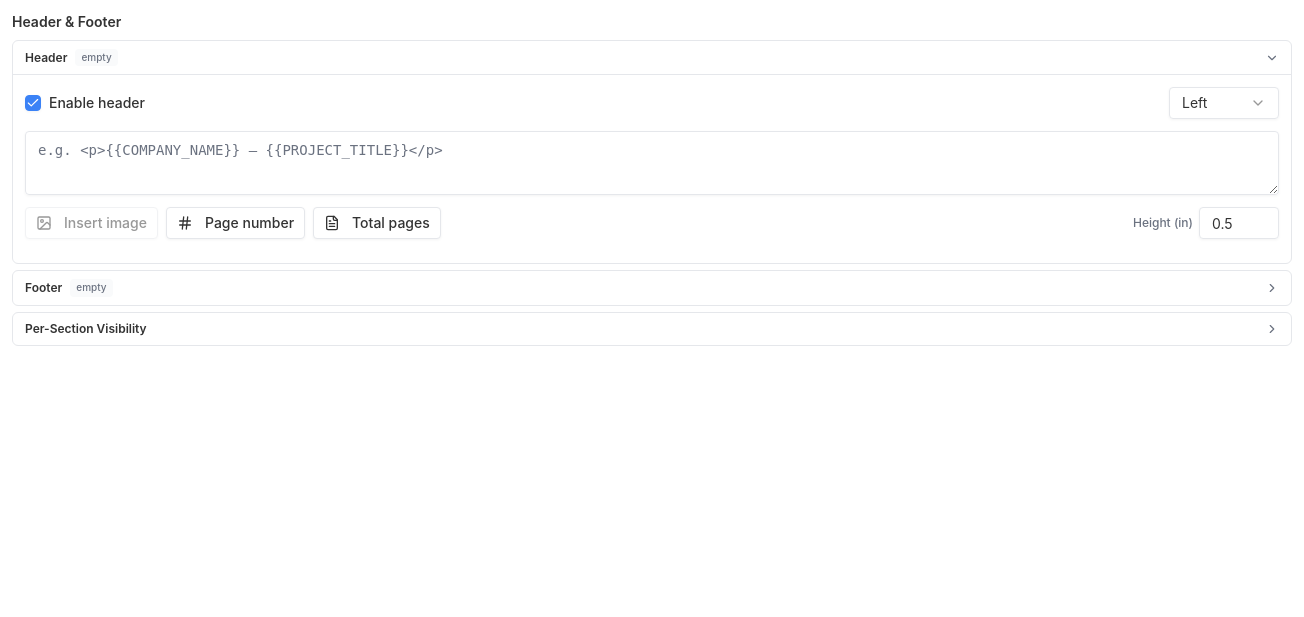
TemplateFurniturePanel — collapsible structure › summarises override count on the per-section group
In the text box named "Header content": (652, 163) left=25, top=131, right=1279, bottom=195, type "<p>ACME</p>"
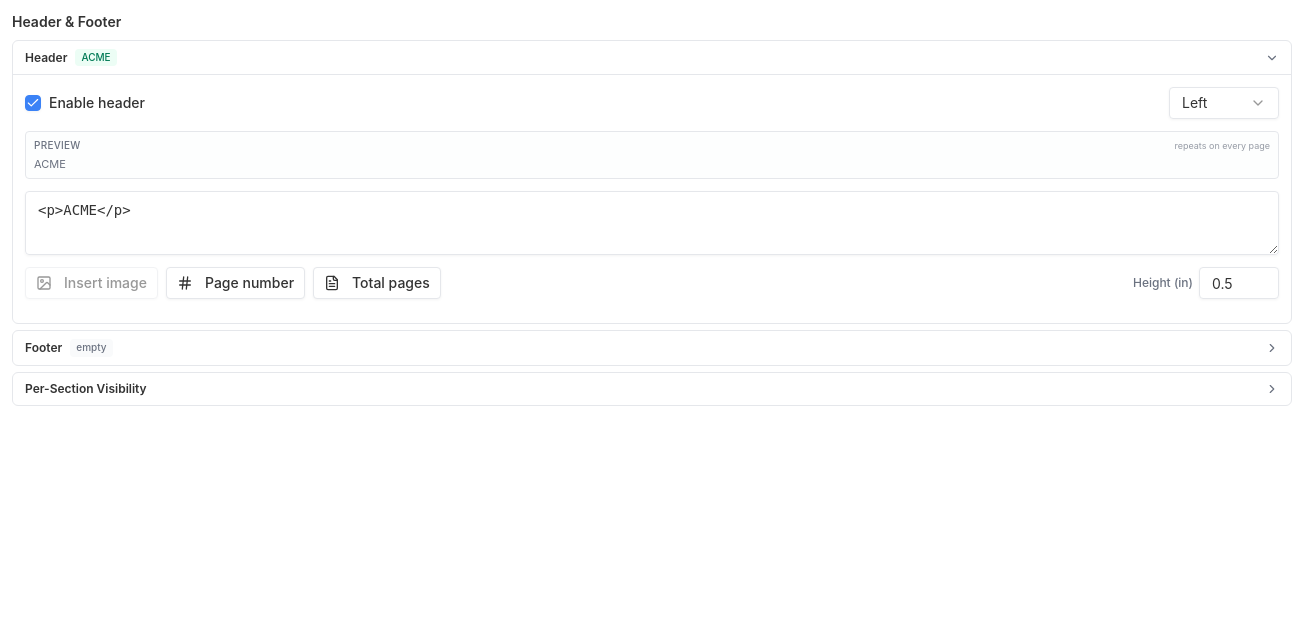
Click the button "Per-Section Visibility": (86, 388) left=13, top=373, right=1291, bottom=405
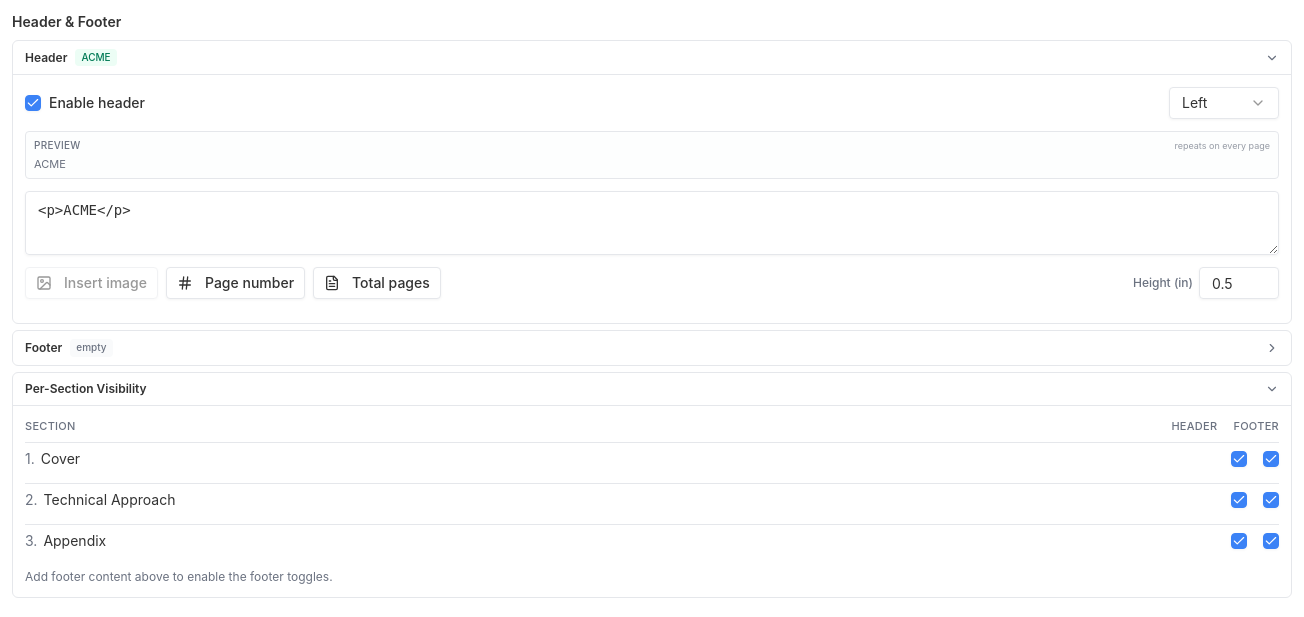
Click the checkbox named "Show header on section 1": (1239, 459) left=1231, top=451, right=1247, bottom=467
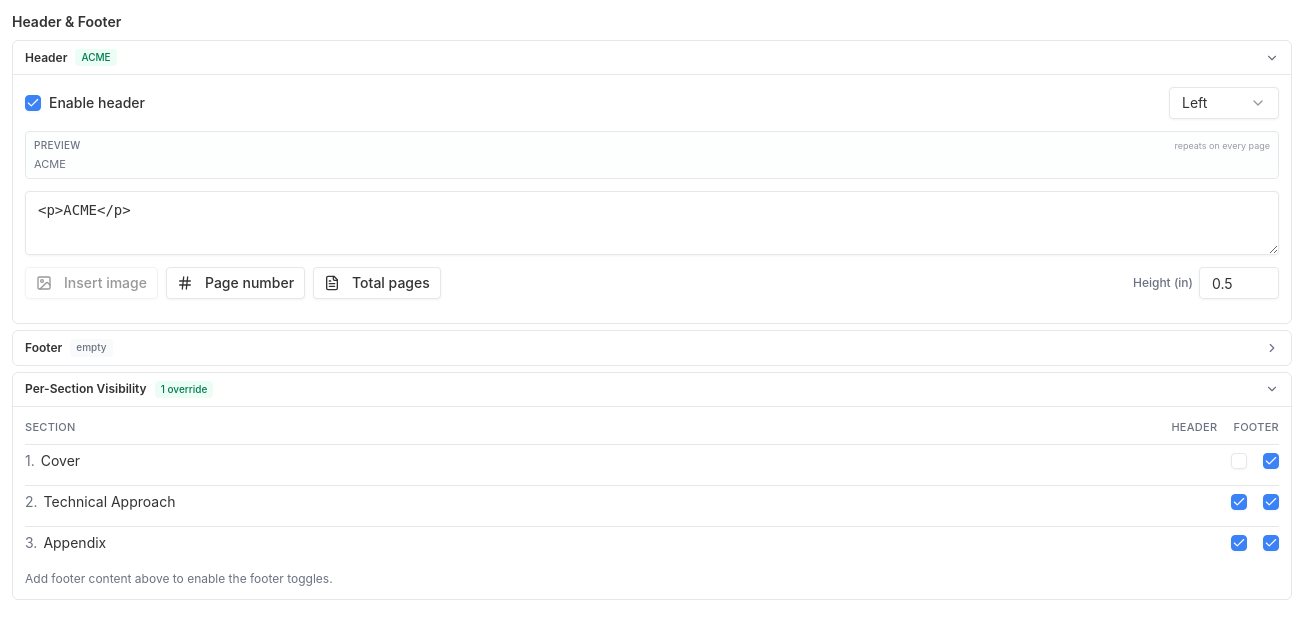
Expected: the text "1 override" is shown, left=155, top=381, right=213, bottom=398
